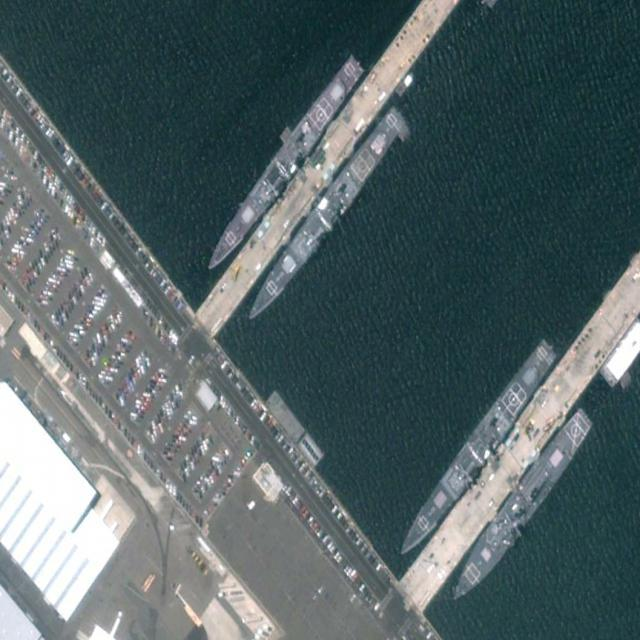Cruiser: (391, 333, 561, 568), (241, 100, 407, 330), (199, 52, 366, 279)
Destroyer: (444, 403, 598, 612)
